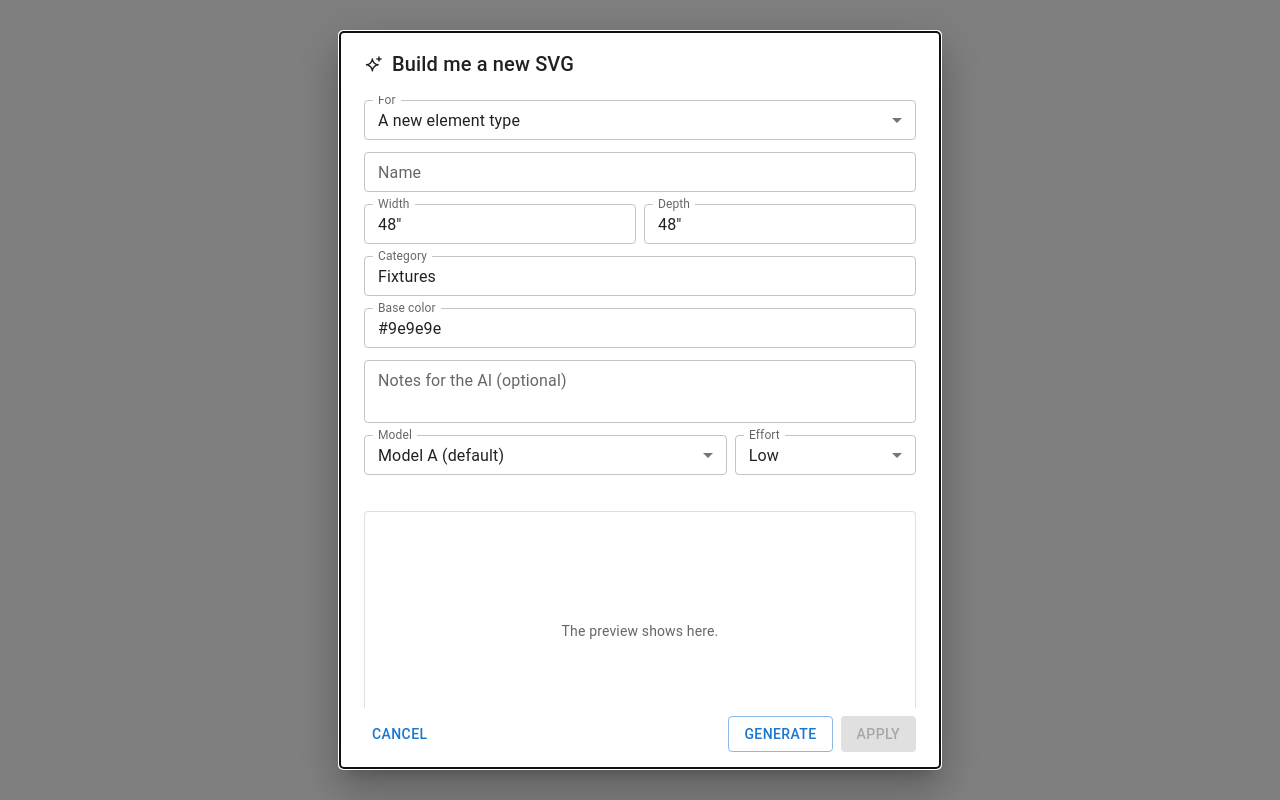
BuildSvgDialog › shows a readable error and does not preview when generation fails
Step 1. Type "Cart" into the field labelled "Name" → (640, 172), box [364,152,916,192]
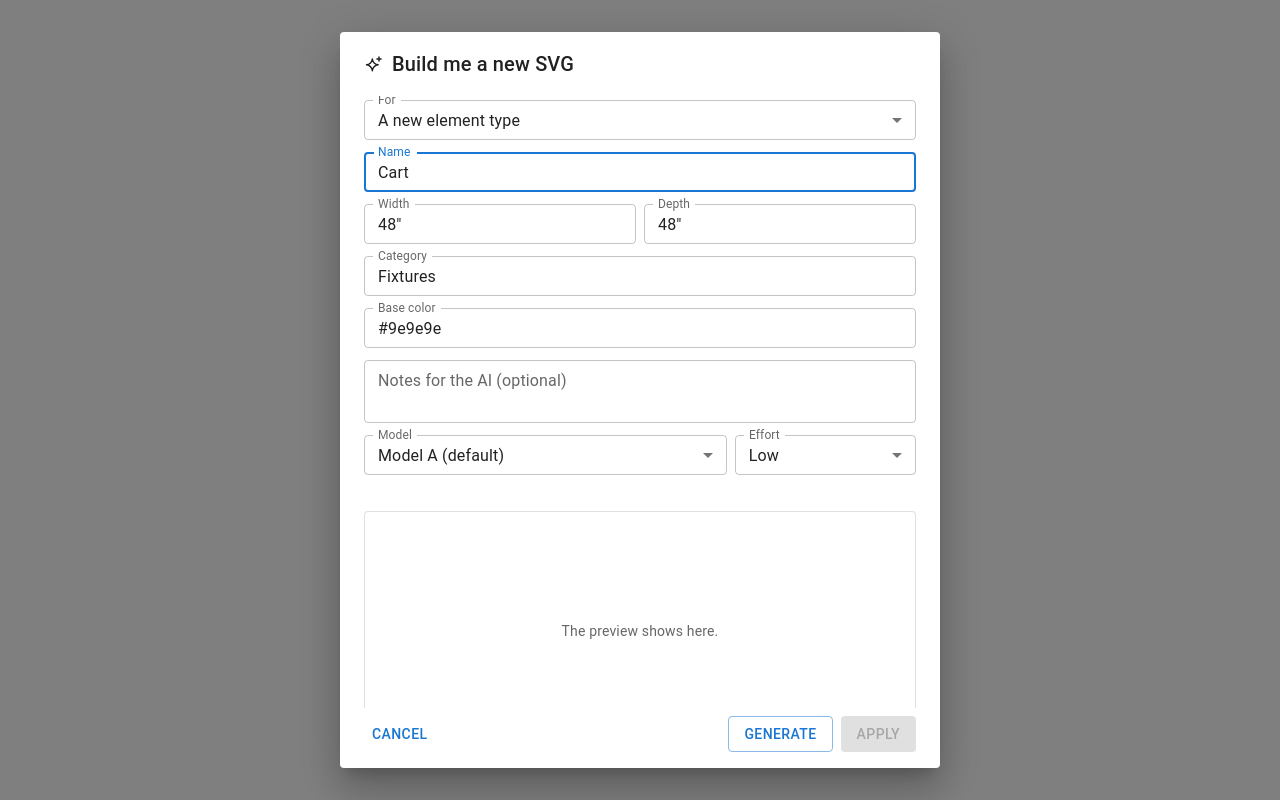
Step 2. Click the button "Generate" → (780, 734), box [728,716,833,752]
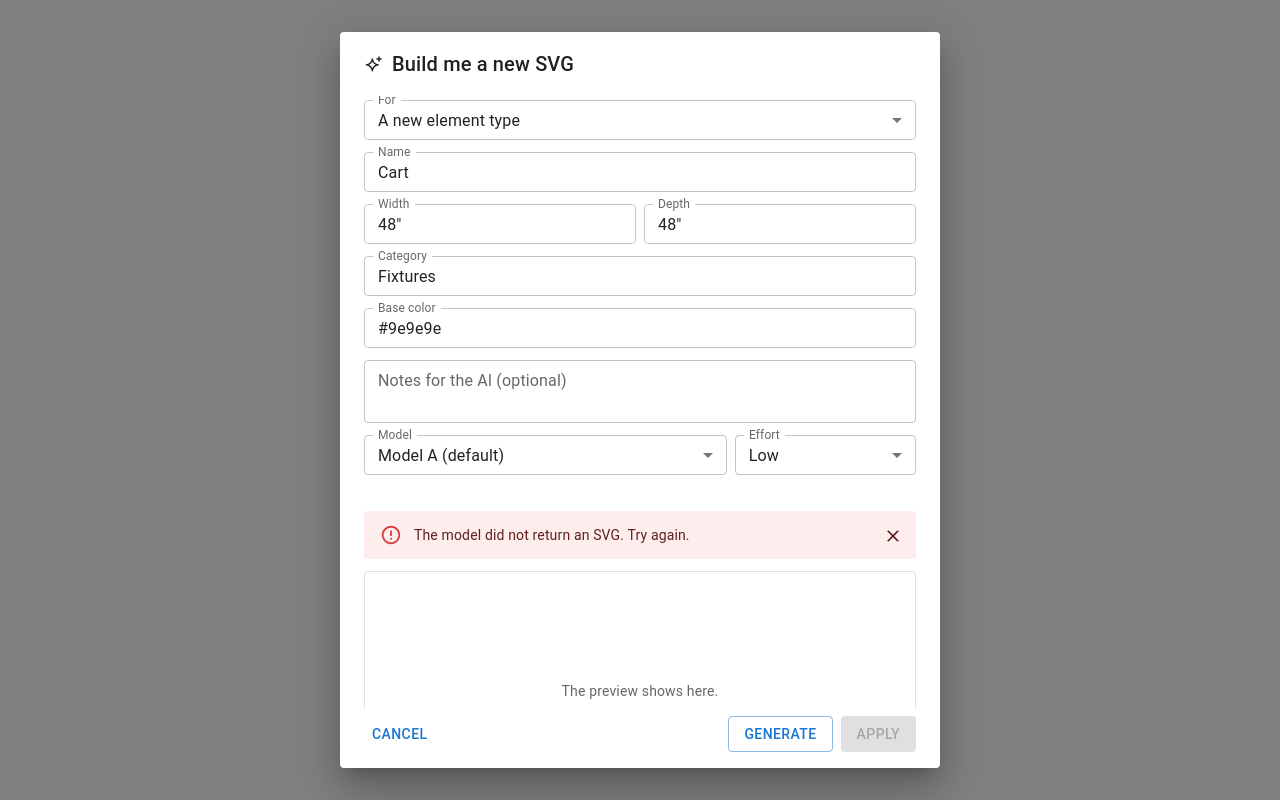
Check: the button "Apply" is disabled, box [841,716,916,752]
Check: the text "The model did not return an SVG. Try again." is shown, box [414,527,690,543]
